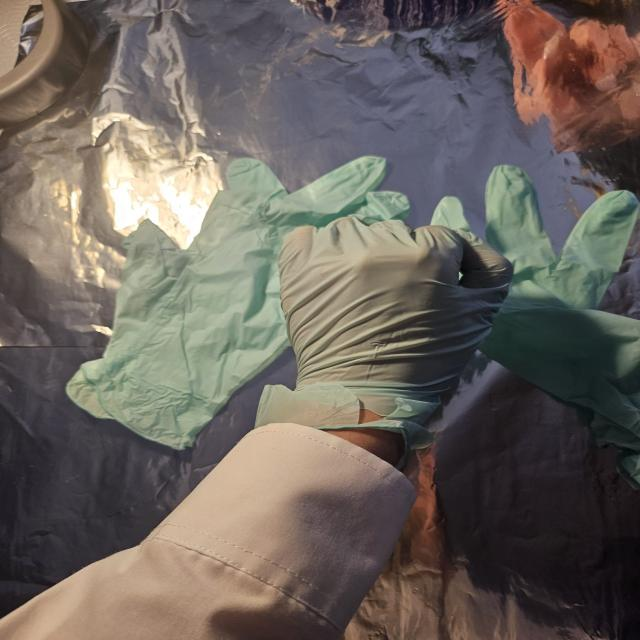gloves_damaged: (258, 213, 516, 461)
